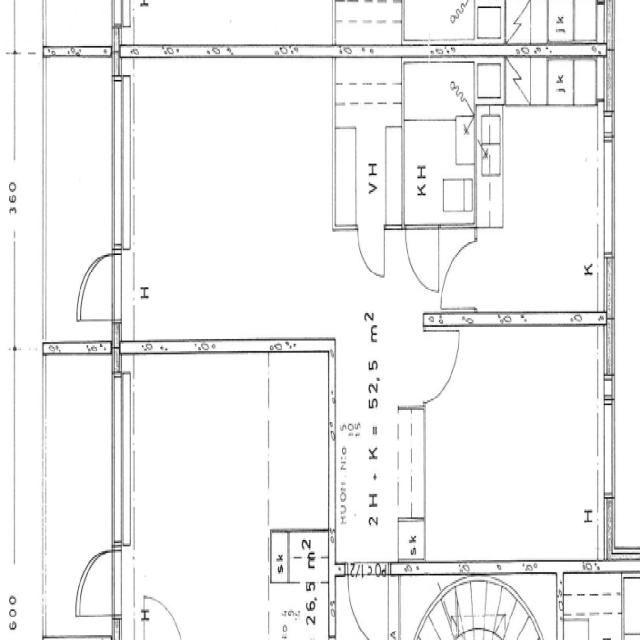door: (74, 544, 117, 625), (439, 230, 479, 316), (76, 248, 118, 329), (421, 326, 461, 404), (403, 221, 441, 297), (140, 591, 186, 640), (355, 220, 387, 284)
window: (110, 70, 138, 257), (110, 369, 138, 548), (600, 316, 618, 384)
zone: (128, 55, 340, 342), (424, 321, 608, 563), (129, 343, 275, 640), (475, 61, 611, 324), (40, 342, 117, 631), (402, 59, 476, 228), (267, 346, 333, 534), (333, 60, 402, 232), (270, 529, 330, 640), (560, 572, 625, 640), (341, 571, 393, 640), (398, 519, 425, 564), (622, 575, 640, 640)
